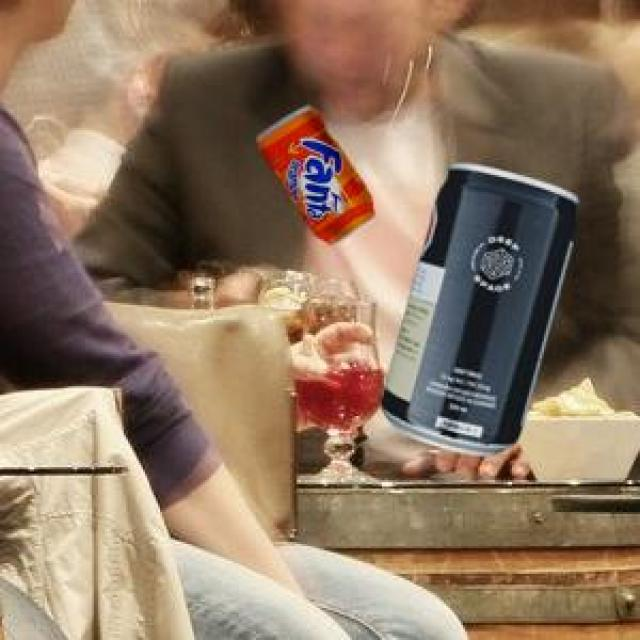logam: (379, 161, 575, 453), (255, 103, 372, 242)
